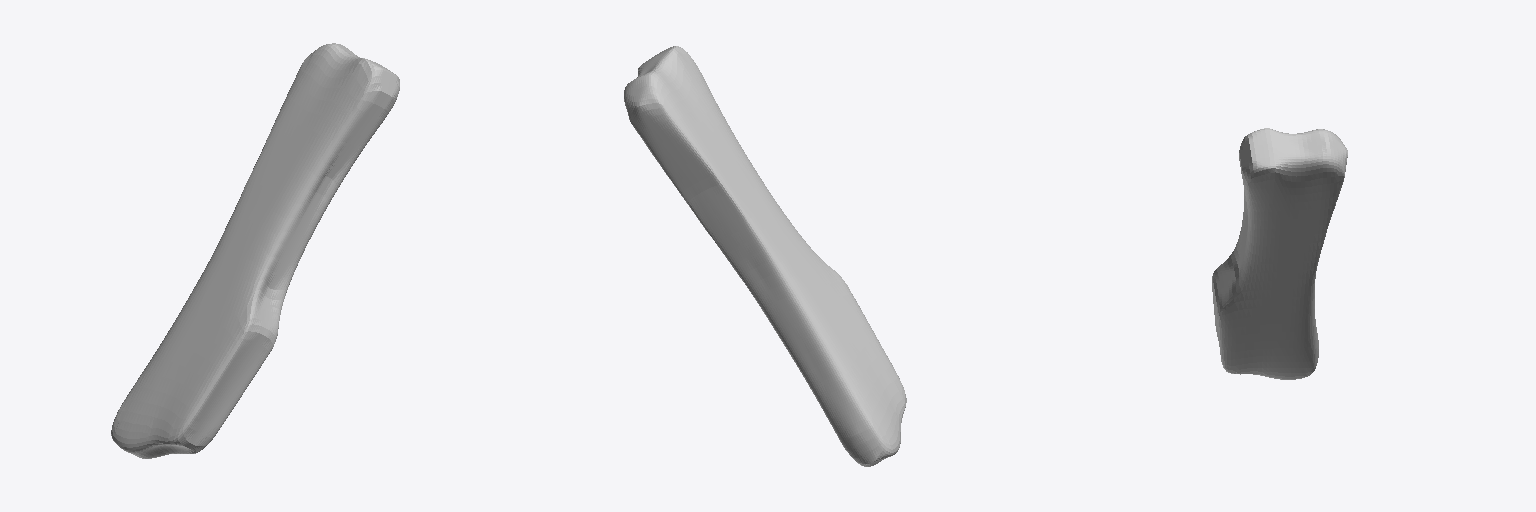
File: shoulder.obj
3 renders of one model, left to right at view 1: azimuth 30°, elevation 25°; view 2: azimuth 150°, elevation 25°; view 3: azimuth 270°, elevation 25°, orthographic.
Visible parts, largest first — view 1: Cube.054_Cube.015; view 2: Cube.054_Cube.015; view 3: Cube.054_Cube.015.
Part boxes in pixels (bbox=[...]): Cube.054_Cube.015: bbox=[111, 43, 399, 458]; Cube.054_Cube.015: bbox=[624, 46, 906, 466]; Cube.054_Cube.015: bbox=[1212, 128, 1347, 379].
Bounding box in the file's own units: 0.3912 × 0.4964 × 0.1725.